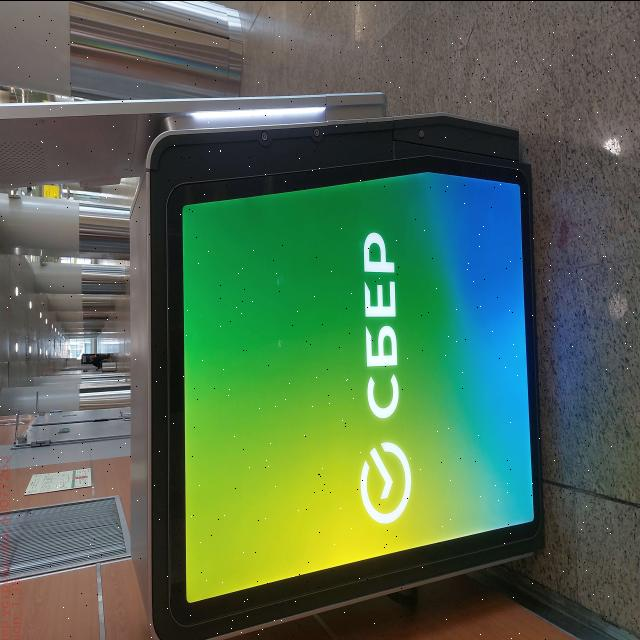bank: (0, 88, 539, 640)
